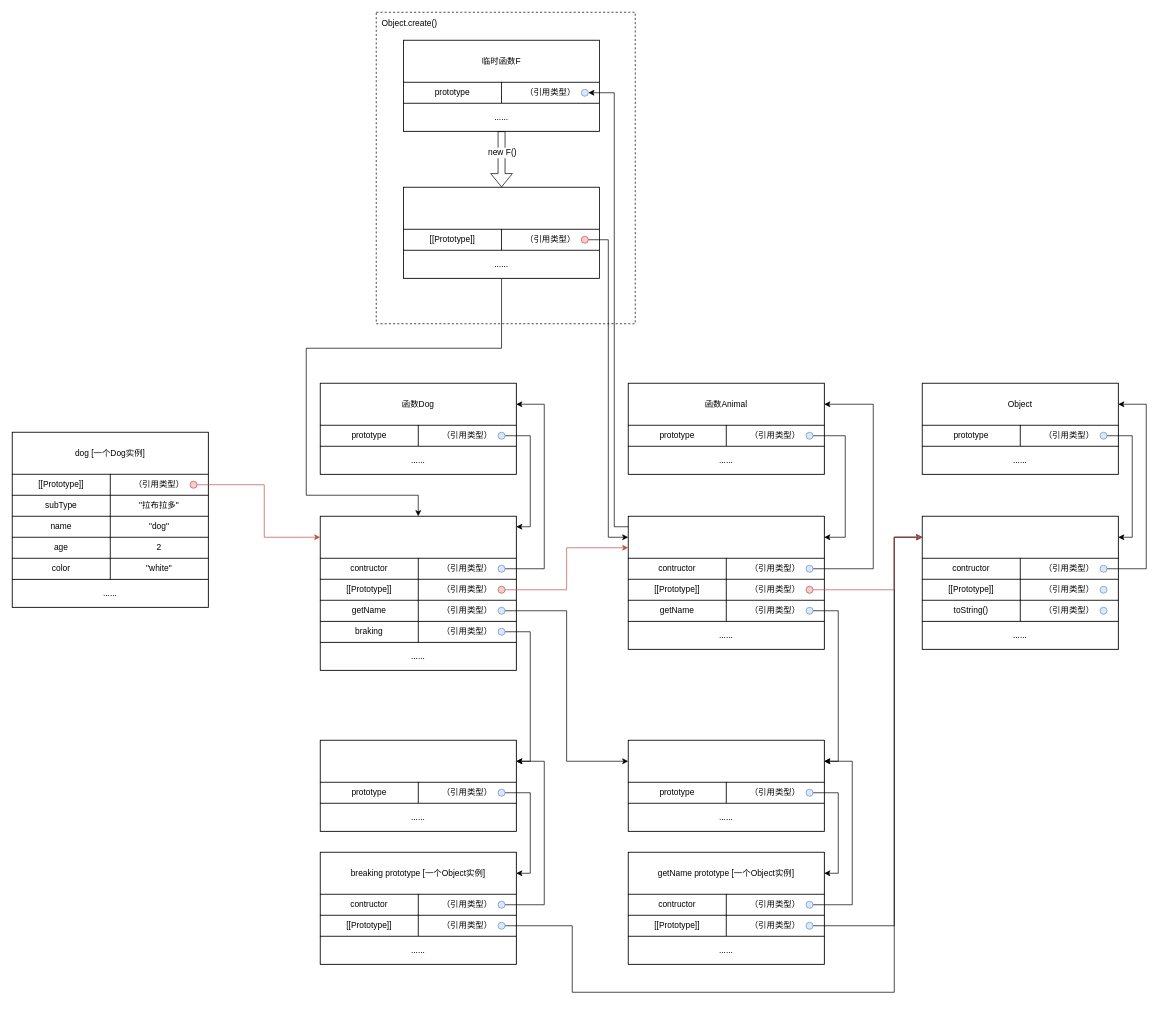
This 1164x1010 diagram has some shape labels left out. The centre of each missing label's shape, as x and y in pixels:
"Animal prototype [一个Object实例]" belongs at [726,537].
"Dog prototype [一个 Animal 实例，Animal prototype的副本]" belongs at [418,537].
"f [一个 F 实例]" belongs at [501,208].
"Object prototype" belongs at [1020,537].
"函数braking" belongs at [418,761].
"函数getName" belongs at [726,761].
